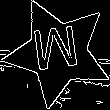M_S: (32, 24, 84, 81)
